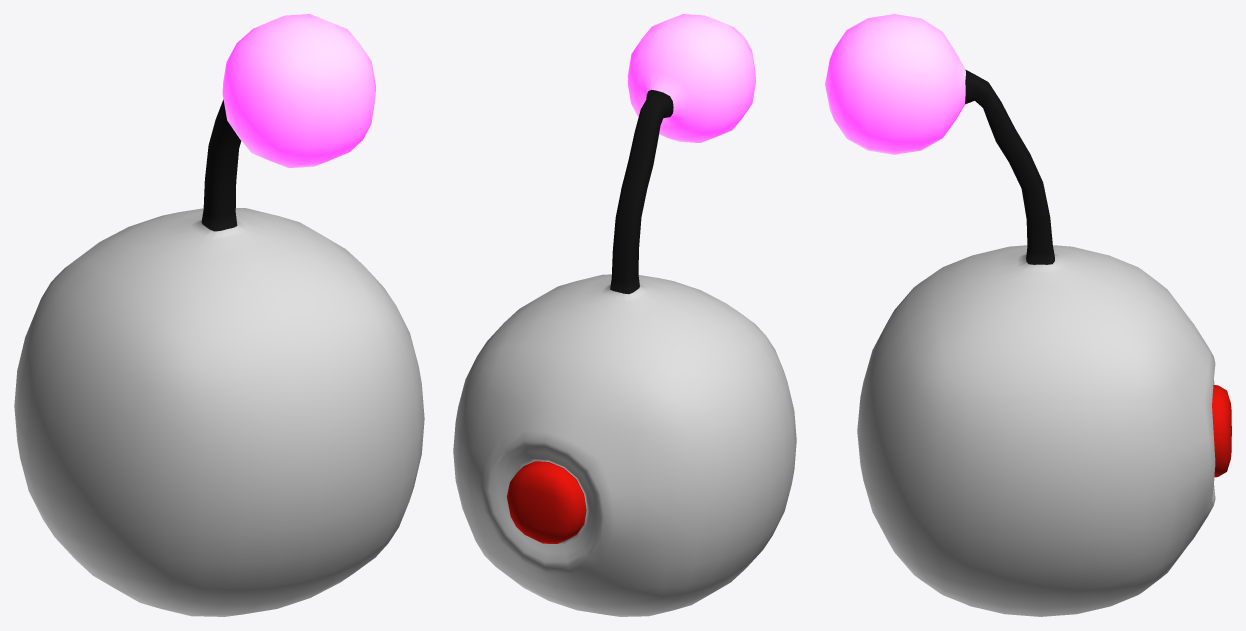
The model's file is RobotEnemy2.fbx.
The picture shows the model from 3 angles, left to right: view 1: azimuth 30°, elevation 25°; view 2: azimuth 150°, elevation 25°; view 3: azimuth 270°, elevation 25°; orthographic projection. The views are drawn at different scales.
Parts seen in each view (by area): view 1: EnemyVer2; view 2: EnemyVer2; view 3: EnemyVer2.
Part boxes in pixels (x1,y1,x2,y2): EnemyVer2: (14,14,424,616); EnemyVer2: (453,14,796,616); EnemyVer2: (825,14,1231,616).
Size of the model in its own units: 134 by 232 by 148.
